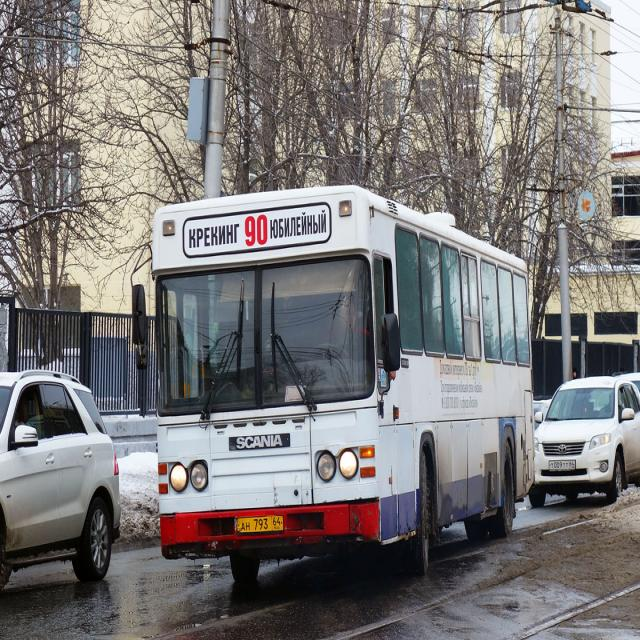number-of-bus: (242, 208, 270, 251)
